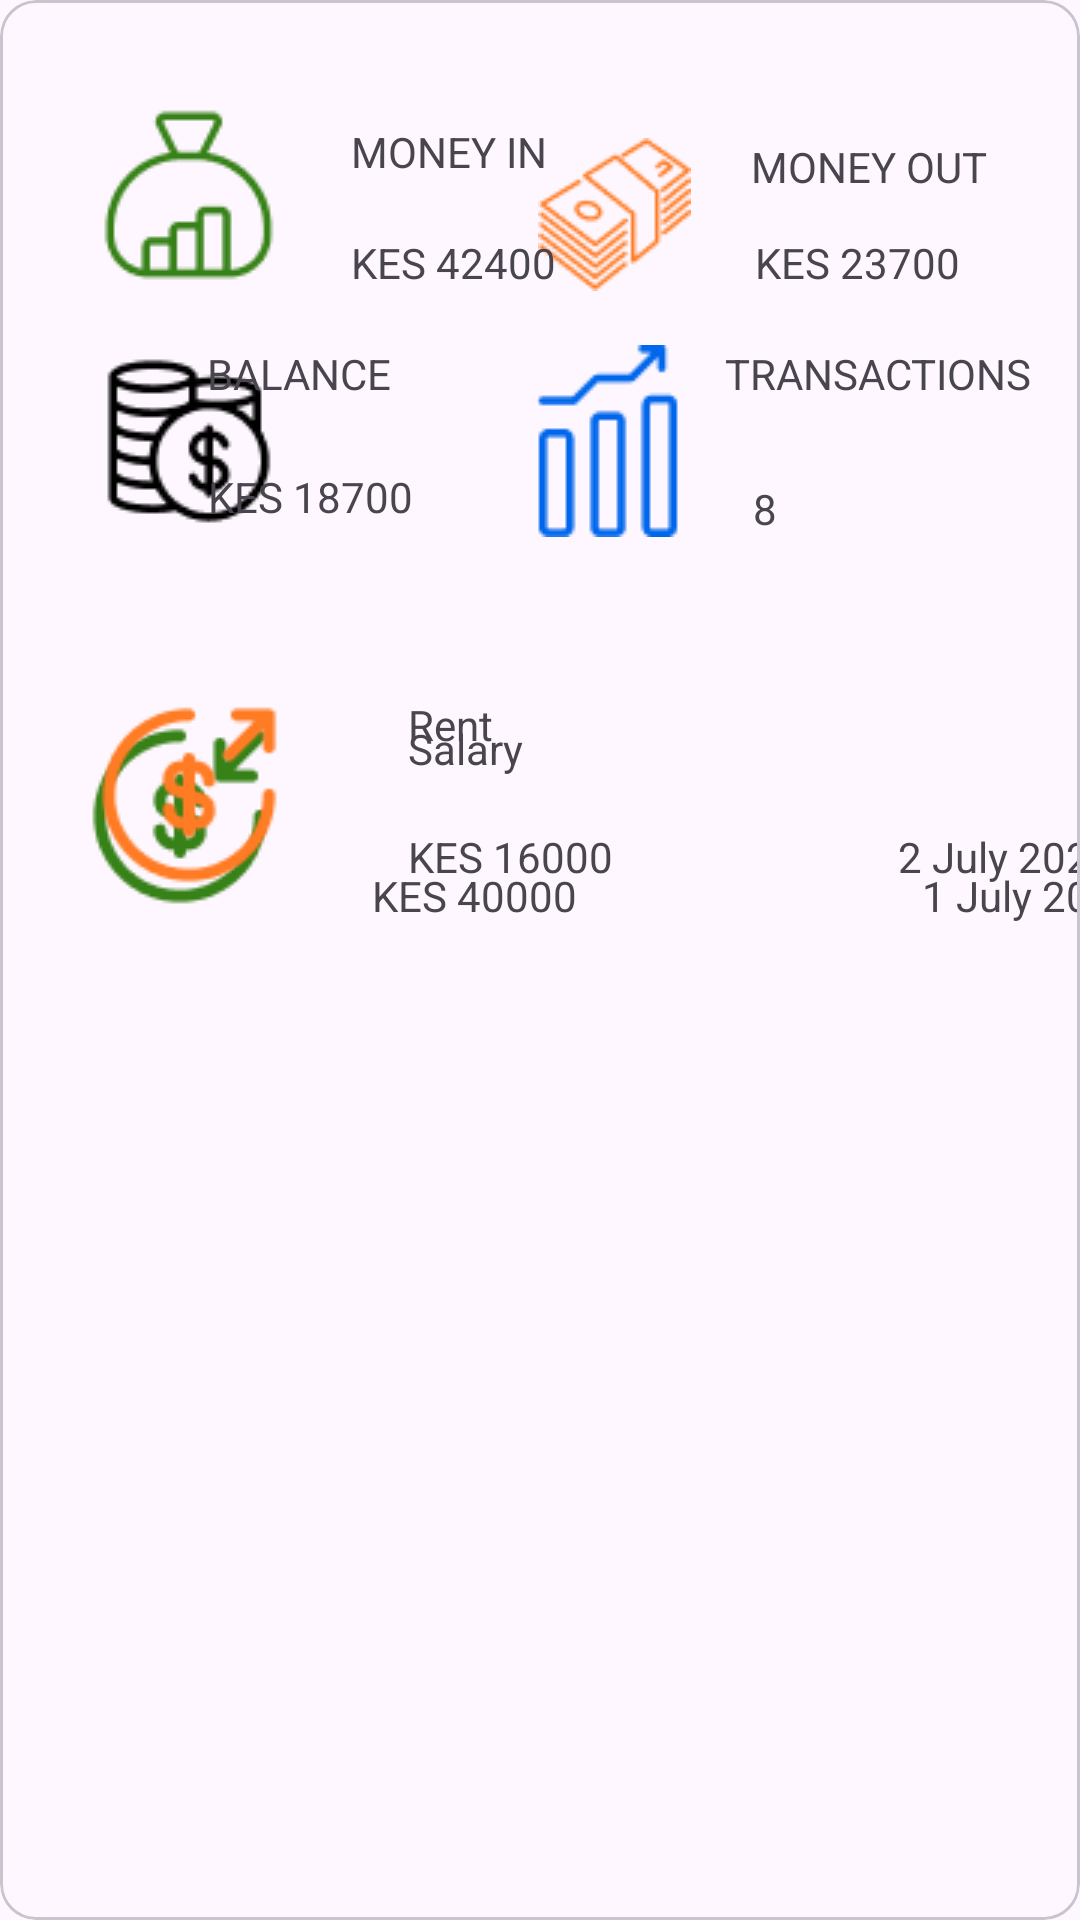

Icons on this 1080*1920 Android screen, each with its box as (left=x1, top=y1, right=x2, bottom=y2):
incomes: (left=104, top=110, right=274, bottom=280)
